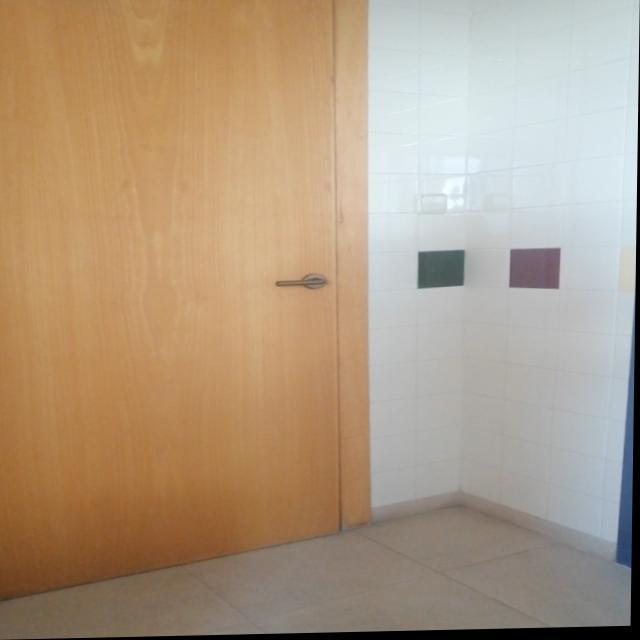door_handle: (274, 279, 332, 289)
